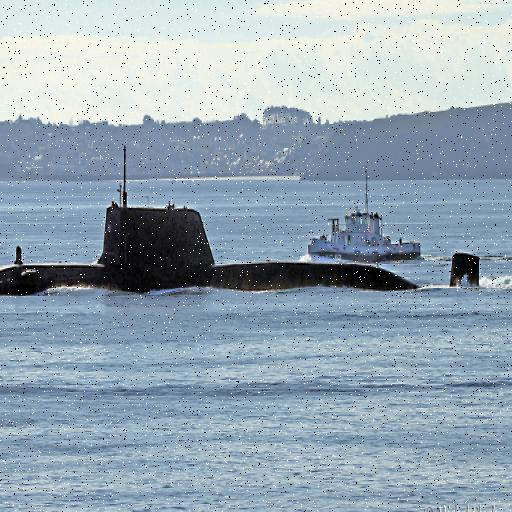submarine: (1, 208, 481, 294)
